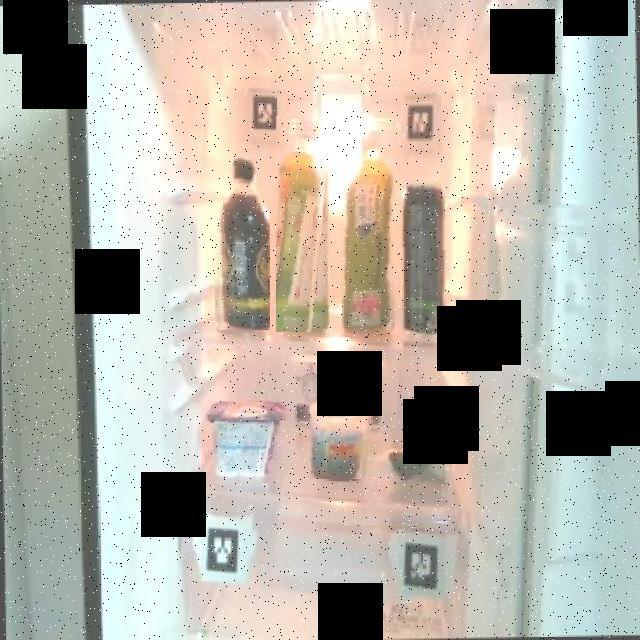coffee: (210, 153, 270, 330)
energy_drink: (396, 178, 447, 339)
pudding: (308, 396, 372, 479)
rice_ball: (378, 430, 450, 492)
tea_a: (340, 125, 398, 338)
tea_i: (276, 110, 332, 332)
yogurt: (205, 396, 286, 484)
